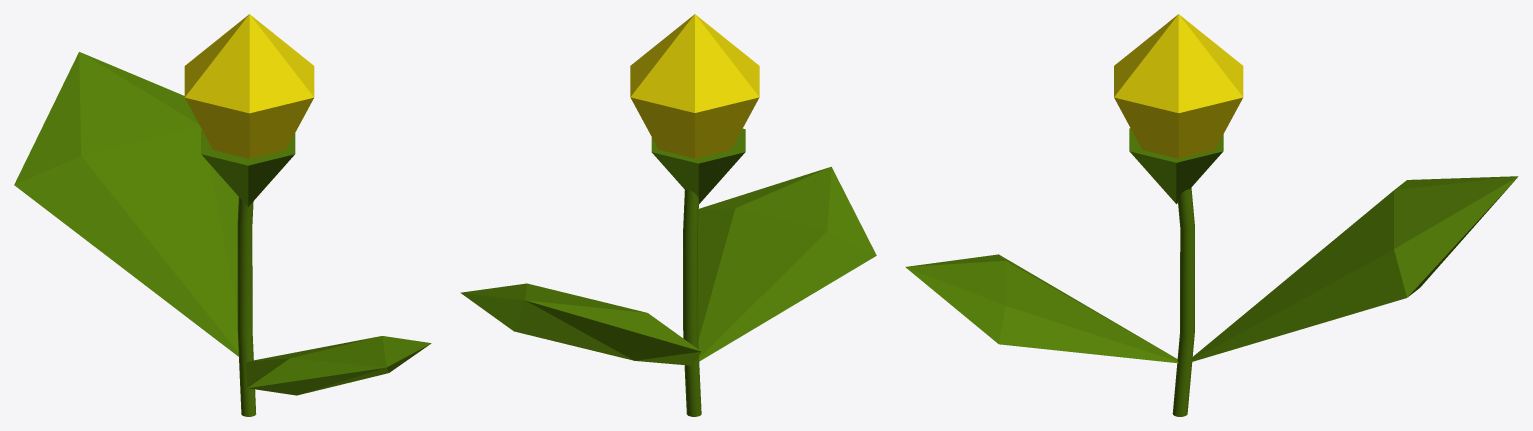
File: flowerbud.fbx
The picture shows the model from 3 angles, left to right: view 1: azimuth 30°, elevation 25°; view 2: azimuth 150°, elevation 25°; view 3: azimuth 270°, elevation 25°; orthographic projection.
Visible parts, largest first — view 1: leafbig, bud, leafsmall, stem, greenthingunderflower; view 2: leafsmall, bud, leafbig, stem, greenthingunderflower; view 3: leafbig, bud, leafsmall, stem, greenthingunderflower.
Part boxes in pixels (x1,y1,x2,y2): leafbig: [14, 52, 238, 356]; bud: [184, 14, 314, 158]; leafsmall: [246, 336, 431, 395]; stem: [237, 197, 256, 416]; greenthingunderflower: [201, 131, 295, 206]; leafsmall: [698, 166, 876, 361]; bud: [630, 14, 759, 158]; leafbig: [460, 283, 701, 365]; stem: [683, 189, 701, 416]; greenthingunderflower: [651, 128, 745, 203]; leafbig: [1191, 176, 1518, 362]; bud: [1114, 14, 1243, 158]; leafsmall: [905, 254, 1178, 363]; stem: [1172, 187, 1194, 416]; greenthingunderflower: [1129, 128, 1223, 203].
Size of the model in its own units: 0.2122 by 0.3353 by 0.4666.
